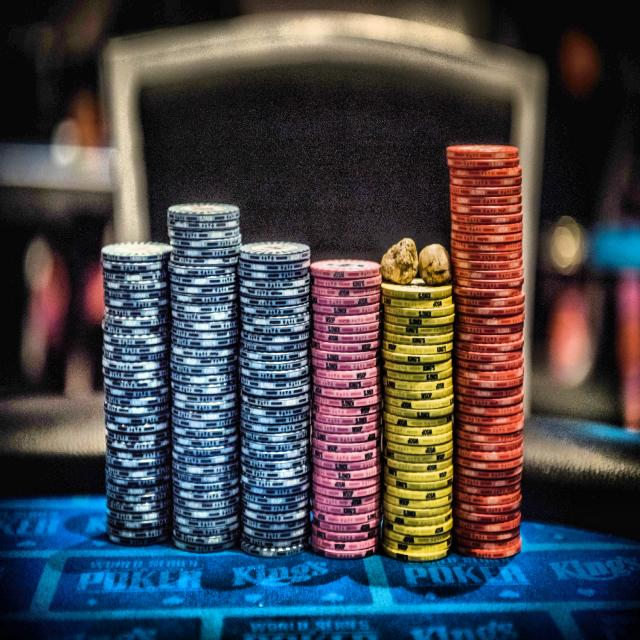Chip: (440, 136, 540, 564), (162, 197, 243, 560), (94, 231, 177, 550), (236, 239, 314, 563), (308, 250, 388, 564), (376, 268, 458, 568)
